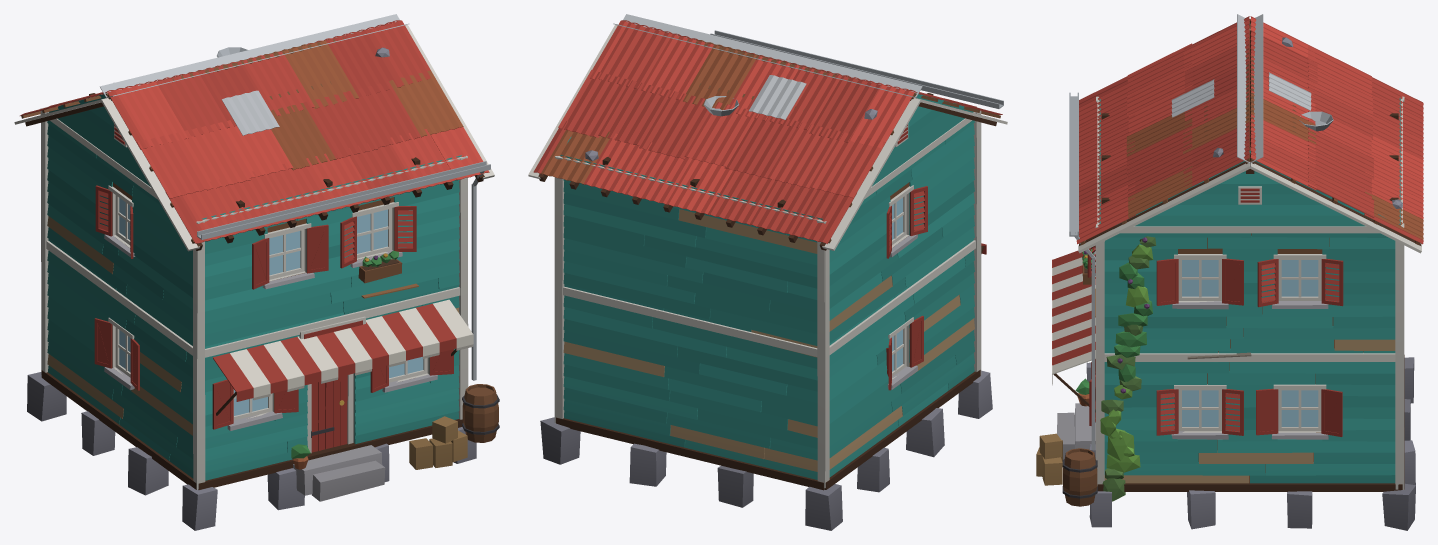
3 renders of one model, left to right at view 1: azimuth 30°, elevation 25°; view 2: azimuth 150°, elevation 25°; view 3: azimuth 270°, elevation 25°, orthographic.
Parts seen in each view (by area): view 1: P04_WALL_E, P04_ROOF, P04_WALL_S, P04_BASE, P04_DOOR_main; view 2: P04_WALL_W, P04_ROOF, P04_WALL_S, P04_BASE, P04_WALL_E, P04_WALL_N; view 3: P04_WALL_N, P04_ROOF, P04_WALL_E, P04_BASE, P04_WALL_W.
Part boxes in pixels (left/top/right/bottom): P04_WALL_E: left=197, top=155, right=499, bottom=489; P04_ROOF: left=14, top=14, right=494, bottom=251; P04_WALL_S: left=40, top=89, right=204, bottom=489; P04_BASE: left=27, top=370, right=476, bottom=530; P04_DOOR_main: left=311, top=375, right=347, bottom=452; P04_WALL_W: left=555, top=155, right=824, bottom=488; P04_ROOF: left=528, top=14, right=1007, bottom=250; P04_WALL_S: left=822, top=94, right=981, bottom=487; P04_BASE: left=540, top=370, right=992, bottom=530; P04_WALL_E: left=710, top=30, right=1003, bottom=371; P04_WALL_N: left=554, top=24, right=636, bottom=422; P04_WALL_N: left=1096, top=147, right=1404, bottom=501; P04_ROOF: left=1076, top=14, right=1423, bottom=253; P04_WALL_E: left=1036, top=92, right=1104, bottom=506; P04_BASE: left=1057, top=355, right=1415, bottom=530; P04_WALL_W: left=1395, top=97, right=1404, bottom=483.
Size of the model in its own units: 5.88 by 6.94 by 6.47.
